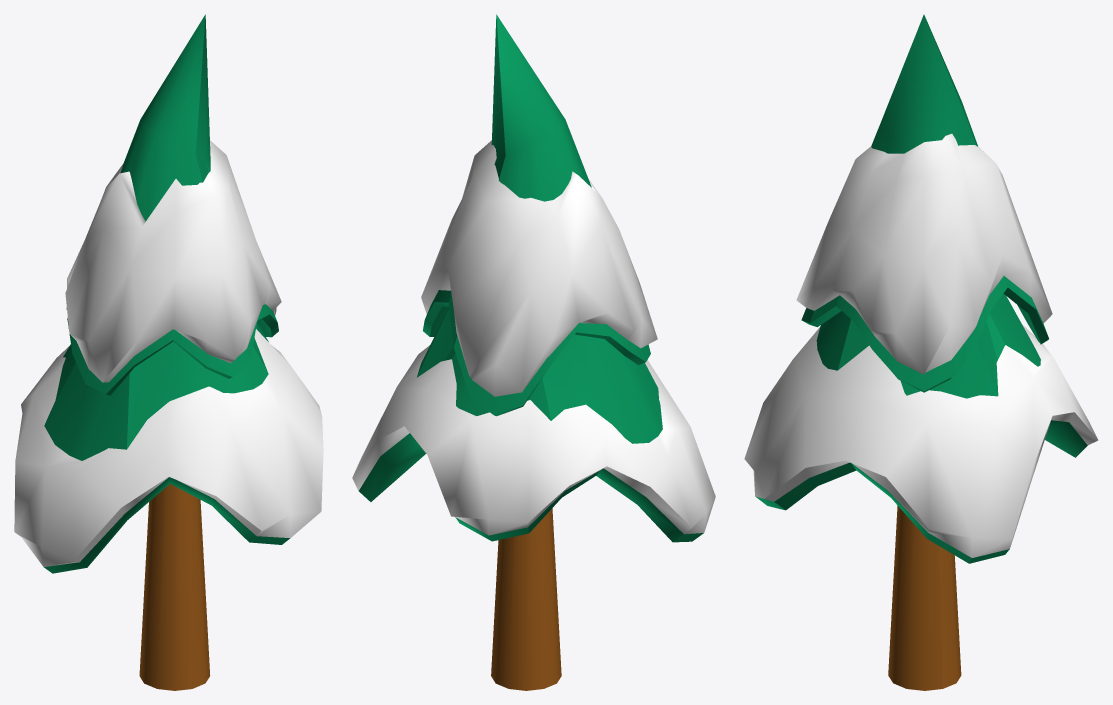
File: tree_winter4.fbx
The picture shows the model from 3 angles, left to right: view 1: azimuth 30°, elevation 25°; view 2: azimuth 150°, elevation 25°; view 3: azimuth 270°, elevation 25°; orthographic projection. The views are drawn at different scales.
Visible parts, largest first — view 1: tree_winter4; view 2: tree_winter4; view 3: tree_winter4.
Boxes of the visible parts, x1,y1,x2,y2 form: tree_winter4: (14, 14, 323, 690); tree_winter4: (352, 14, 715, 690); tree_winter4: (744, 14, 1098, 690).
Bounding box in the file's own units: 307 × 624 × 296.
